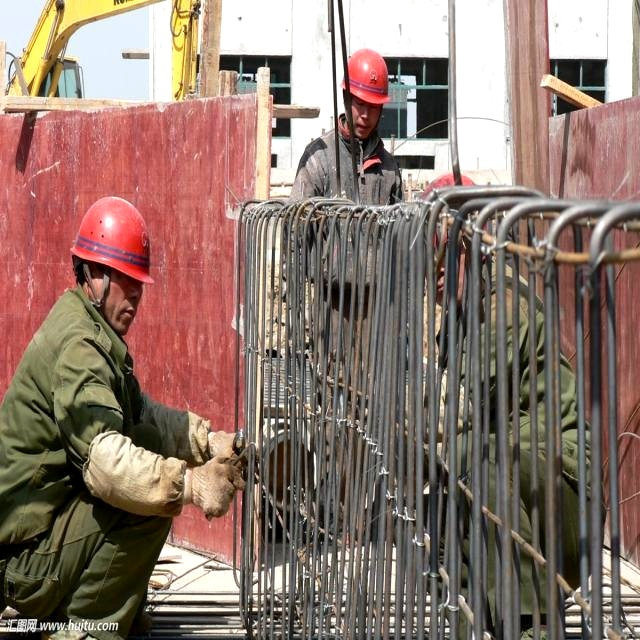Con_Casco: (78, 196, 155, 329), (343, 49, 390, 138)
